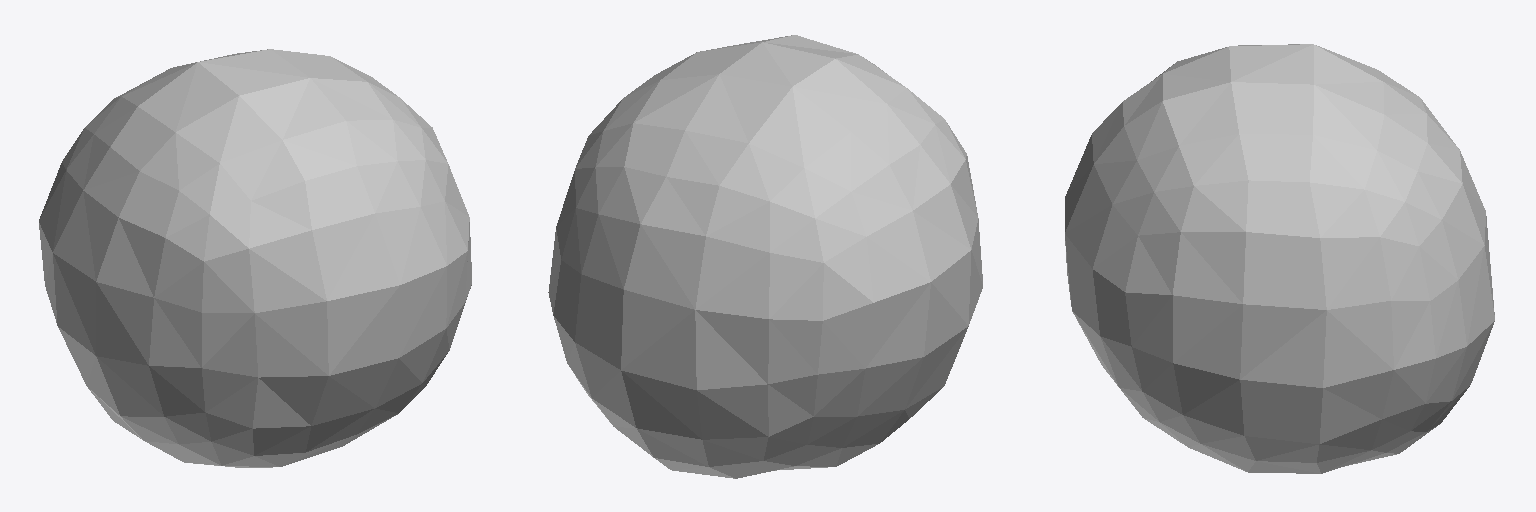
File: rock4.obj
The picture shows the model from 3 angles: view 1: azimuth 30°, elevation 25°; view 2: azimuth 150°, elevation 25°; view 3: azimuth 270°, elevation 25°; orthographic projection.
Visible parts, largest first — view 1: rock4; view 2: rock4; view 3: rock4.
Boxes of the visible parts, <box> form: rock4: <box>39,49,471,467</box>; rock4: <box>548,35,982,478</box>; rock4: <box>1065,44,1494,473</box>.
Size of the model in its own units: 3.85 by 3.85 by 3.92.